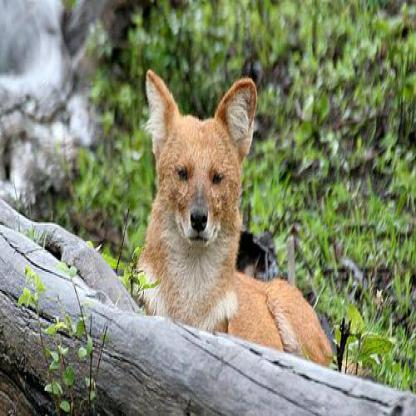dhole: (138, 69, 330, 362)
